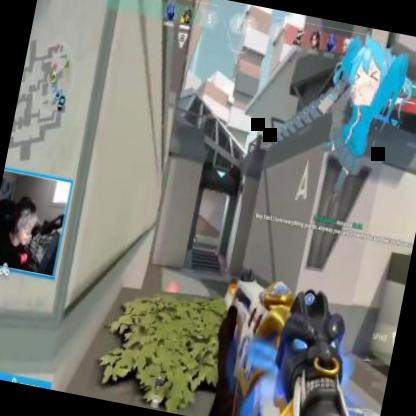enemy: (189, 220, 201, 242)
